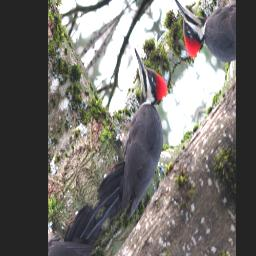Woodpecker: (65, 33, 196, 241)
